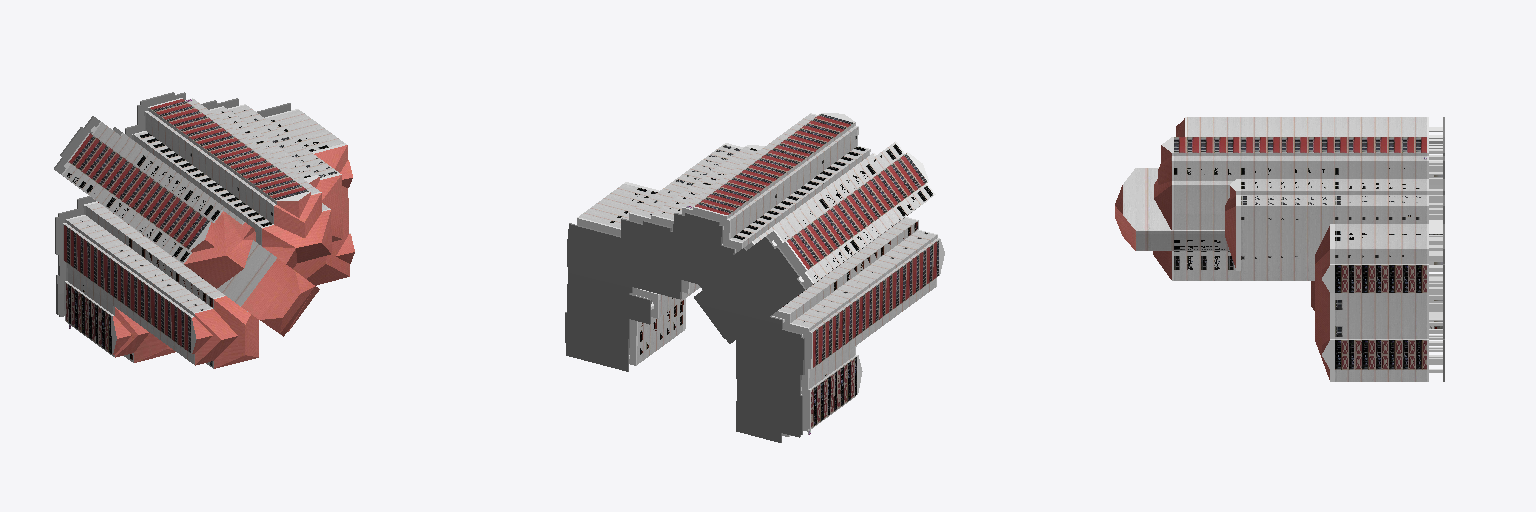
3 renders of one model, left to right at view 1: azimuth 30°, elevation 25°; view 2: azimuth 150°, elevation 25°; view 3: azimuth 270°, elevation 25°, orthographic.
Parts seen in each view (by area): view 1: polygon.786; view 2: polygon.786; view 3: polygon.786.
Part boxes in pixels (left/top/right/bottom): polygon.786: left=54, top=92, right=354, bottom=368; polygon.786: left=565, top=113, right=944, bottom=442; polygon.786: left=1115, top=117, right=1444, bottom=381.
Size of the model in its own units: 58.81 by 48.44 by 70.22.
Materials: 1 (1 with a texture image).